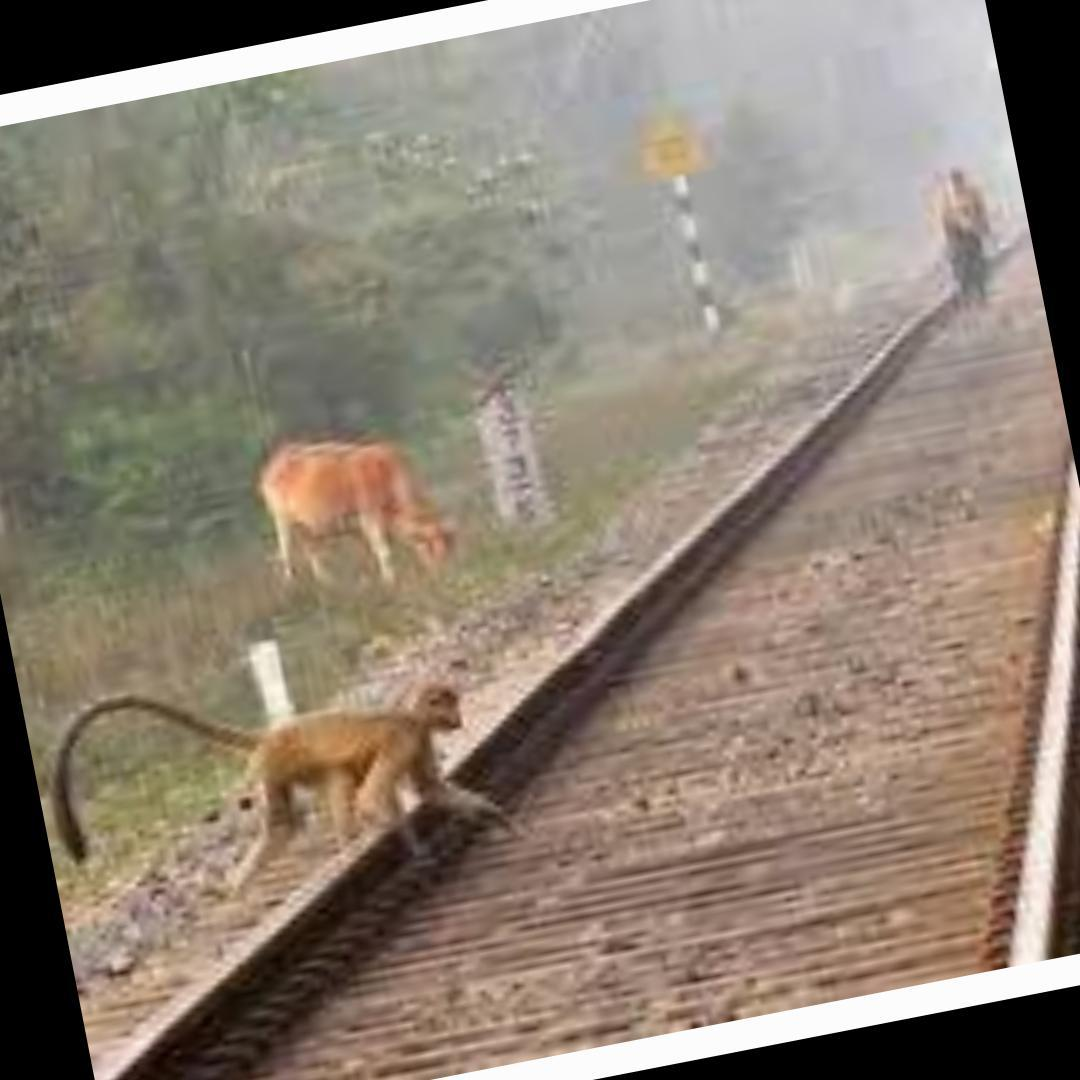standing: (910, 152, 1008, 313)
track: (93, 210, 1080, 1080)
